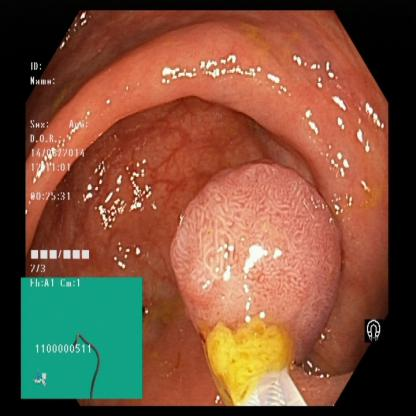Labels: (25, 58, 99, 278), (22, 275, 145, 399), (360, 313, 387, 348)
Polyps: (171, 182, 334, 337)
